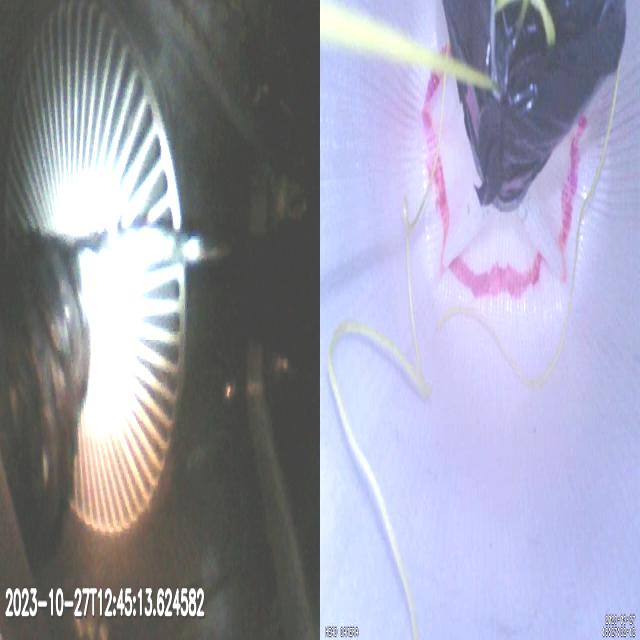red-circle: (422, 67, 582, 303)
